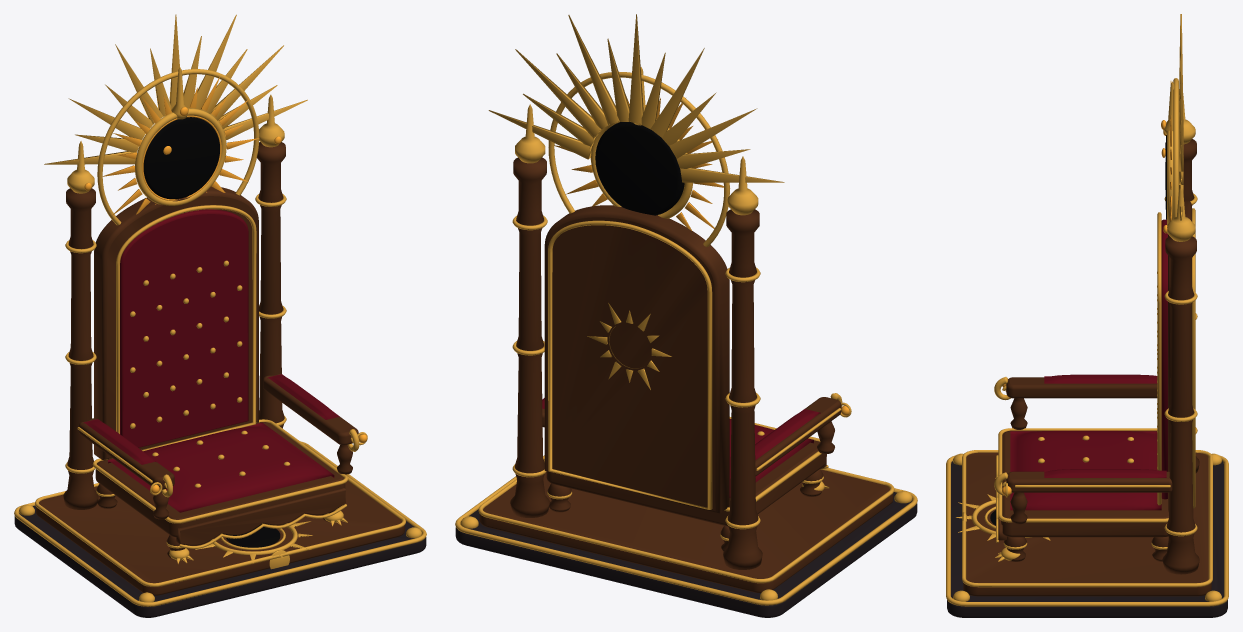
File: TronoEclipse.gltf
The picture shows the model from 3 angles, left to right: view 1: azimuth 30°, elevation 25°; view 2: azimuth 150°, elevation 25°; view 3: azimuth 270°, elevation 25°; orthographic projection. The views are drawn at different scales.
Parts seen in each view (by area): view 1: Madera, Terciopelo, OroCorona, Oro, Piedra, OroTarima, Eclipse, Brillo; view 2: Madera, OroCorona, Piedra, Oro, OroTarima, Eclipse, Terciopelo, Brillo; view 3: Madera, Terciopelo, Piedra, OroTarima, Oro, OroCorona.
Part boxes in pixels (x1=…): Madera: x1=36, y1=142, x2=404, y2=595; Terciopelo: x1=83, y1=209, x2=339, y2=512; OroCorona: x1=44, y1=14, x2=307, y2=225; Oro: x1=65, y1=194, x2=367, y2=560; Piedra: x1=14, y1=505, x2=426, y2=617; OroTarima: x1=14, y1=441, x2=426, y2=606; Eclipse: x1=143, y1=117, x2=280, y2=547; Brillo: x1=84, y1=76, x2=367, y2=493; Madera: x1=479, y1=157, x2=893, y2=592; OroCorona: x1=488, y1=14, x2=784, y2=246; Piedra: x1=455, y1=492, x2=917, y2=617; Oro: x1=512, y1=215, x2=851, y2=540; OroTarima: x1=455, y1=455, x2=917, y2=605; Eclipse: x1=595, y1=122, x2=684, y2=215; Terciopelo: x1=542, y1=398, x2=820, y2=497; Brillo: x1=554, y1=96, x2=849, y2=415; Madera: x1=963, y1=139, x2=1211, y2=596; Terciopelo: x1=1010, y1=219, x2=1167, y2=510; Piedra: x1=947, y1=461, x2=1227, y2=617; OroTarima: x1=946, y1=450, x2=1228, y2=606; Oro: x1=994, y1=193, x2=1197, y2=560; OroCorona: x1=1164, y1=14, x2=1195, y2=241.
Bounding box in the file's own units: 4.93 × 7.9 × 3.93.
